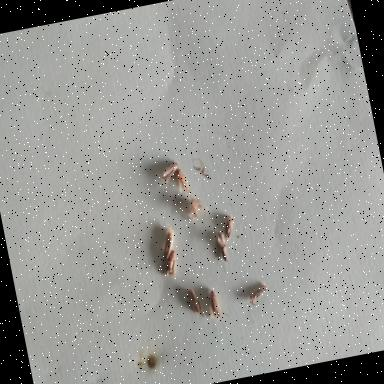pbw: (186, 192, 210, 224), (213, 229, 230, 265), (159, 228, 178, 260), (157, 161, 182, 185), (161, 248, 180, 278), (208, 286, 224, 320), (186, 282, 204, 312), (221, 213, 237, 243), (251, 283, 271, 306), (174, 168, 189, 194)
